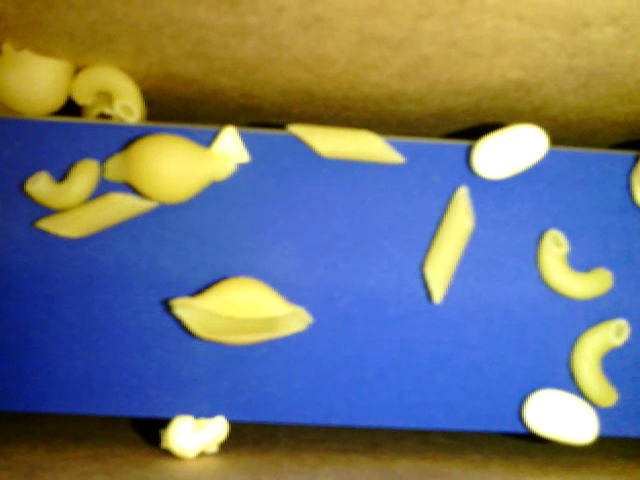elbow: (536, 228, 614, 300), (569, 317, 631, 407), (70, 64, 142, 121), (23, 158, 100, 209)
penne: (424, 186, 477, 303), (33, 193, 160, 238), (284, 124, 405, 163)
shell: (168, 275, 313, 344), (100, 130, 236, 203), (1, 43, 77, 115), (83, 92, 147, 122)
